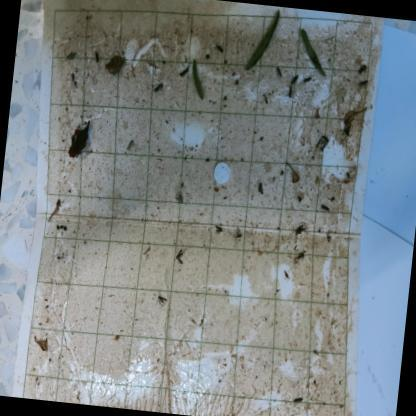prays_oleae: (171, 245, 188, 270), (318, 195, 332, 220), (152, 290, 168, 310), (210, 218, 227, 236), (290, 389, 306, 407), (291, 221, 306, 240), (232, 224, 246, 244), (294, 246, 308, 266), (124, 136, 138, 154), (152, 79, 166, 96), (177, 64, 190, 82), (288, 66, 300, 84), (356, 58, 367, 75), (285, 84, 294, 100), (302, 74, 313, 87)
